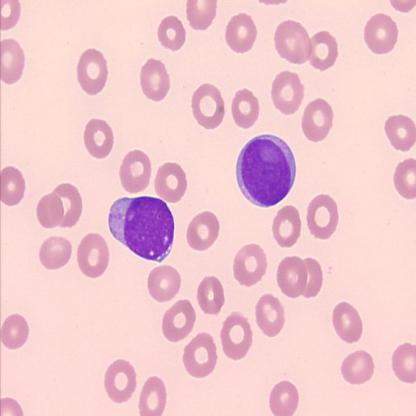Blast: (105, 191, 176, 265), (235, 130, 298, 208)
